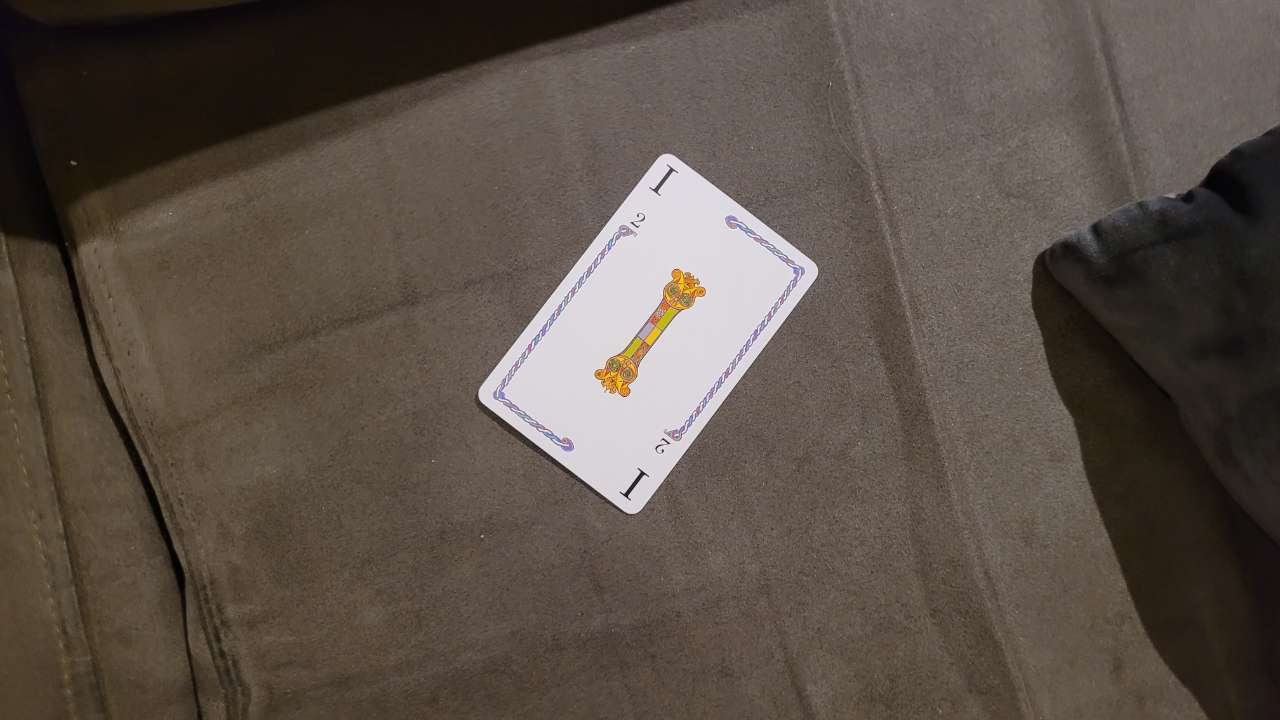quiddler_card: (451, 126, 857, 528)
